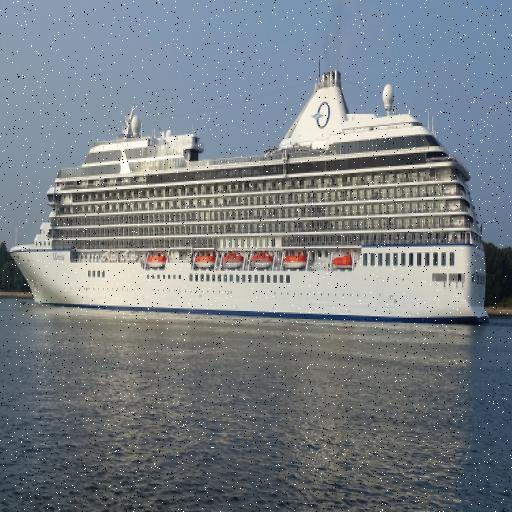cruises: (7, 65, 491, 336)
